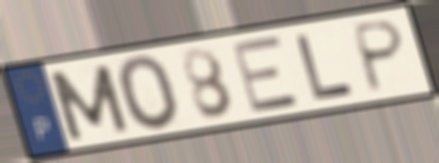8: (180, 47, 236, 121)
E: (229, 33, 305, 116)
L: (291, 31, 358, 103)
M: (44, 62, 134, 144)
O: (115, 52, 183, 135)
P: (350, 17, 407, 96)
